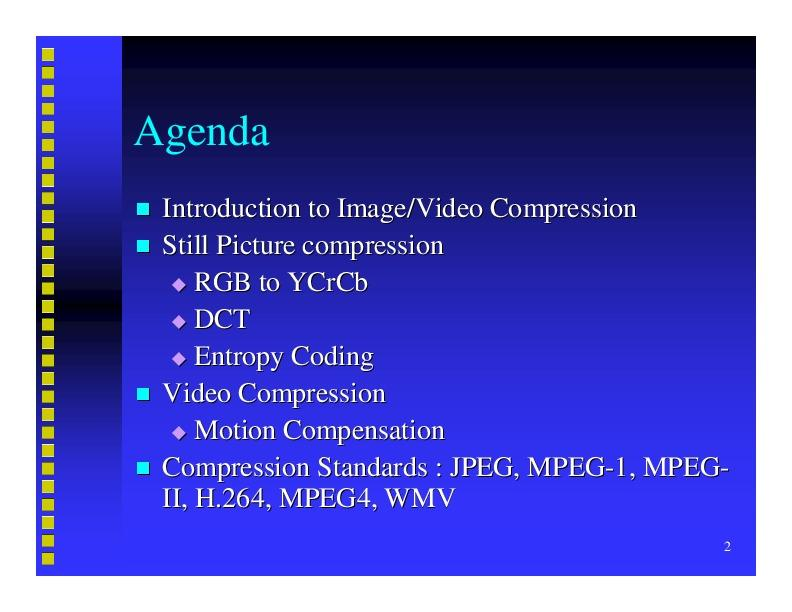paragraph: (150, 184, 738, 519)
title: (128, 104, 284, 161)
